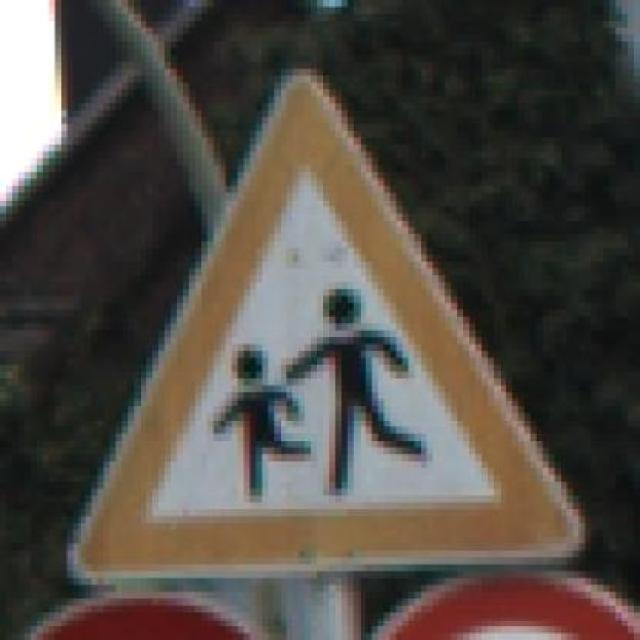Beware of children: (67, 48, 585, 586)
